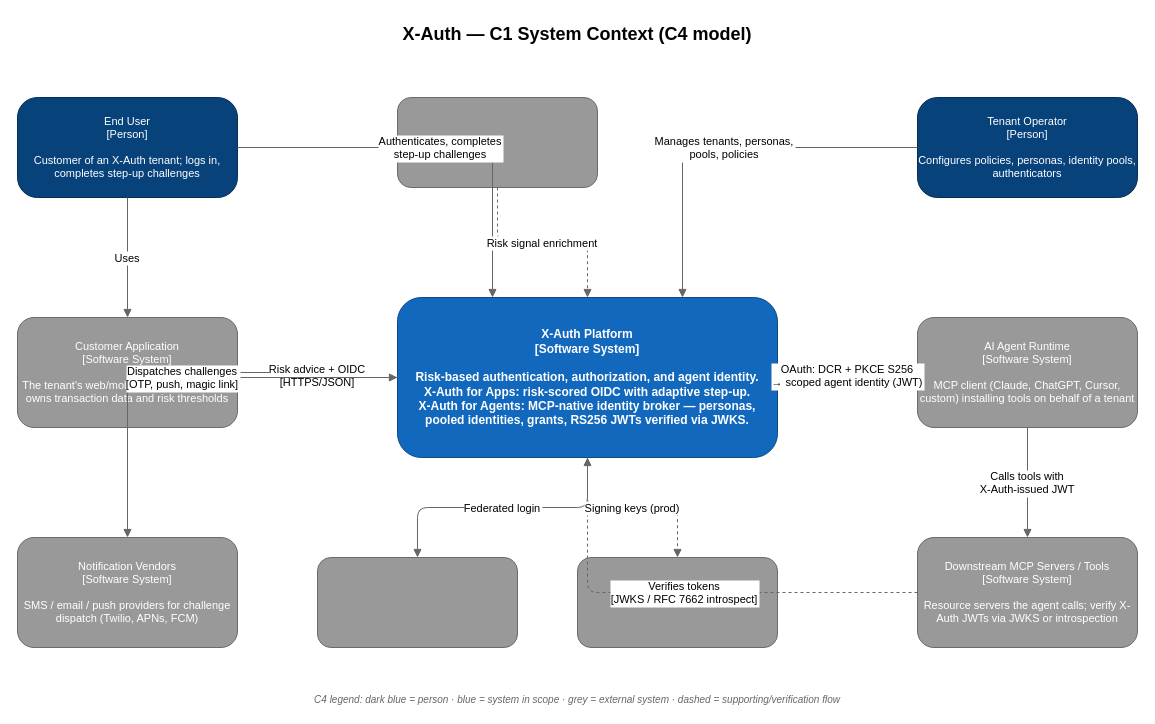
The diagram is 1155 pixels wide and 724 high, and some of its shapes have lost their labels. Each missing label, with the box of its shape:
KMS [Software System] JWT signing keys, 90-day rotation (production): (576, 556, 778, 648)
Social Identity Providers [Software System] Federated login (Google, GitHub, …): (316, 556, 518, 648)
Threat Intelligence [Software System] IP reputation, device intel, fraud feeds: (396, 96, 598, 188)
